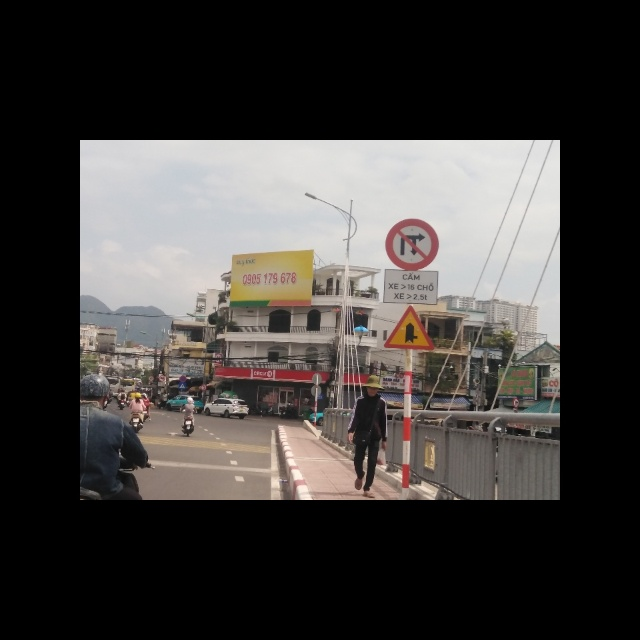Cấm quay đầu và rẽ phải: (385, 219, 439, 271)
Giao nhau với đường không ưu tiên: (384, 307, 436, 352)
